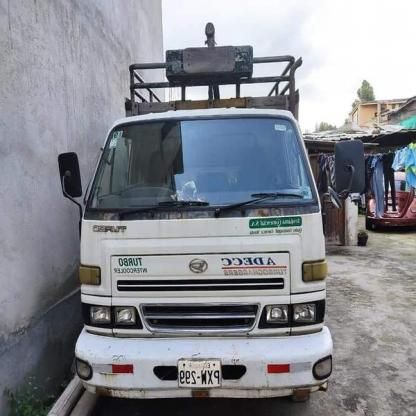Placa: (177, 354, 221, 391)
